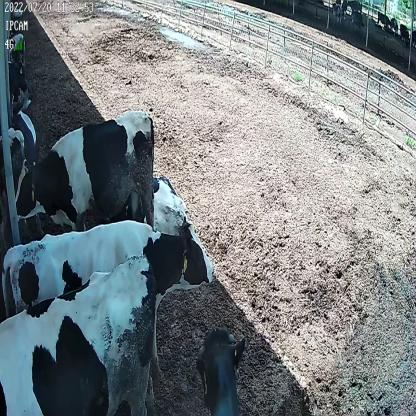cow: (4, 215, 216, 408), (15, 107, 157, 238), (1, 213, 163, 306)
